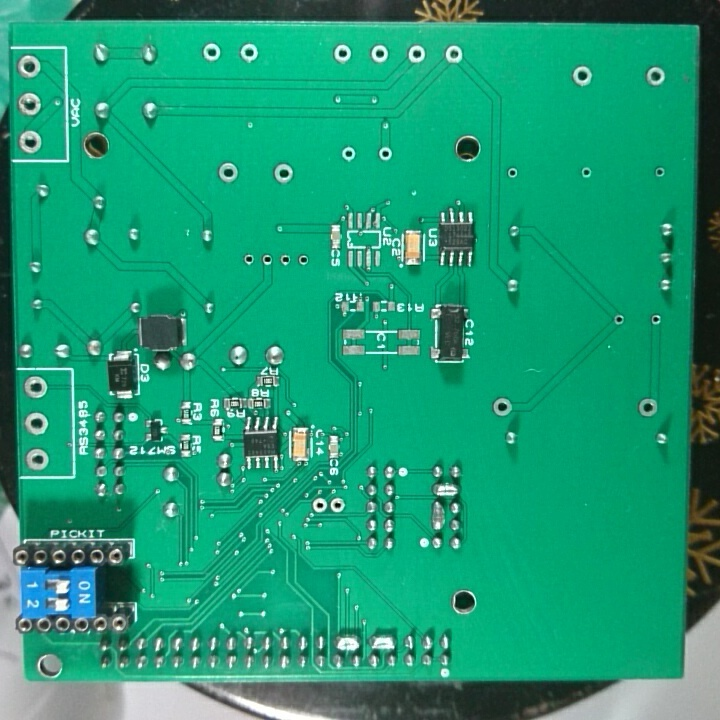F: (20, 374, 52, 403), (22, 409, 54, 438), (16, 89, 45, 120), (16, 52, 44, 83), (23, 445, 52, 474), (215, 158, 242, 188), (17, 128, 45, 156), (634, 394, 661, 422), (489, 393, 515, 422), (568, 63, 596, 89), (271, 160, 296, 188), (642, 63, 668, 89), (199, 41, 223, 65), (404, 43, 428, 66), (368, 41, 391, 65), (237, 41, 261, 64), (443, 42, 465, 67), (331, 43, 354, 66), (338, 143, 358, 166), (374, 143, 394, 166), (328, 495, 348, 517), (257, 249, 277, 271), (239, 248, 257, 272), (309, 495, 328, 517), (294, 251, 313, 271), (611, 310, 628, 331), (647, 310, 664, 329), (276, 252, 294, 269), (652, 162, 668, 181), (579, 163, 594, 182), (505, 164, 521, 181)
P: (365, 632, 399, 653), (332, 633, 363, 655), (428, 498, 447, 532), (429, 480, 461, 499)
